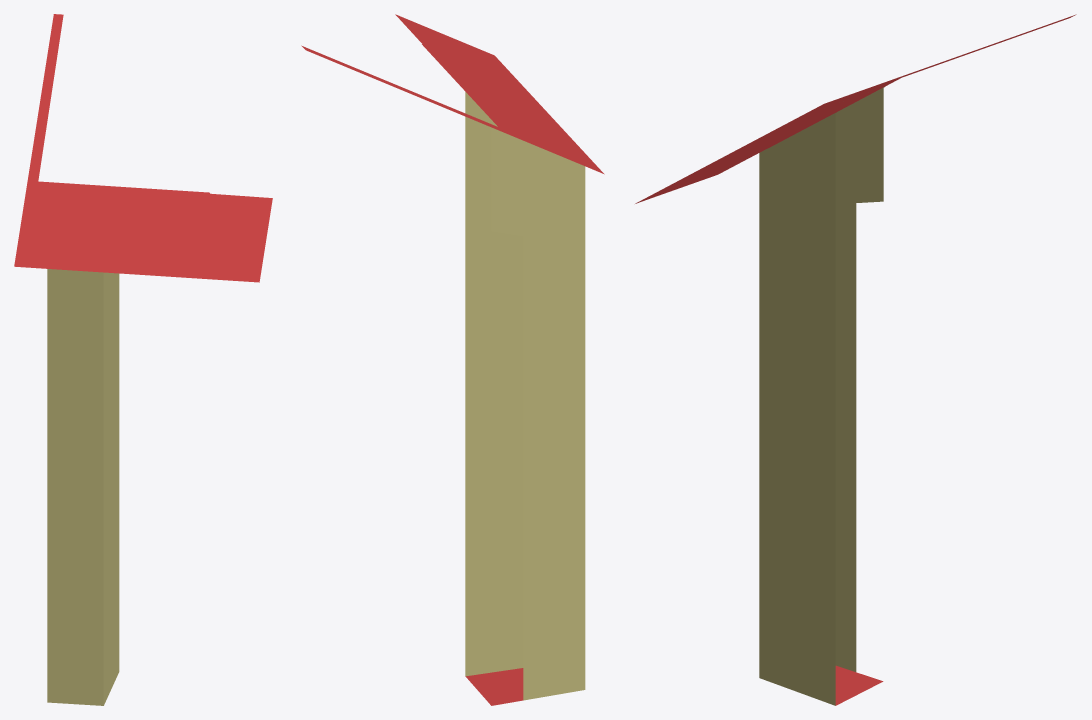
The picture shows the model from 3 angles, left to right: view 1: azimuth 30°, elevation 25°; view 2: azimuth 150°, elevation 25°; view 3: azimuth 270°, elevation 25°; orthographic projection. The views are drawn at different scales.
Bounding box in the file's own units: 5.75 × 8.34 × 14.73.
